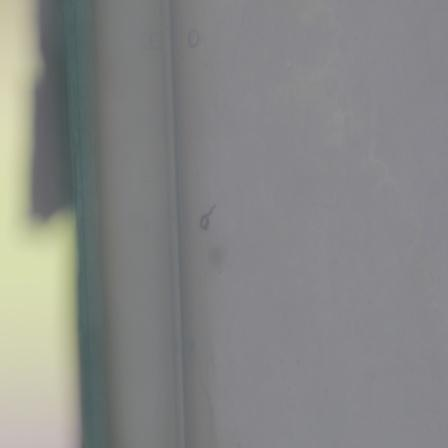Jentik-Nyamuk: (197, 199, 220, 233)
